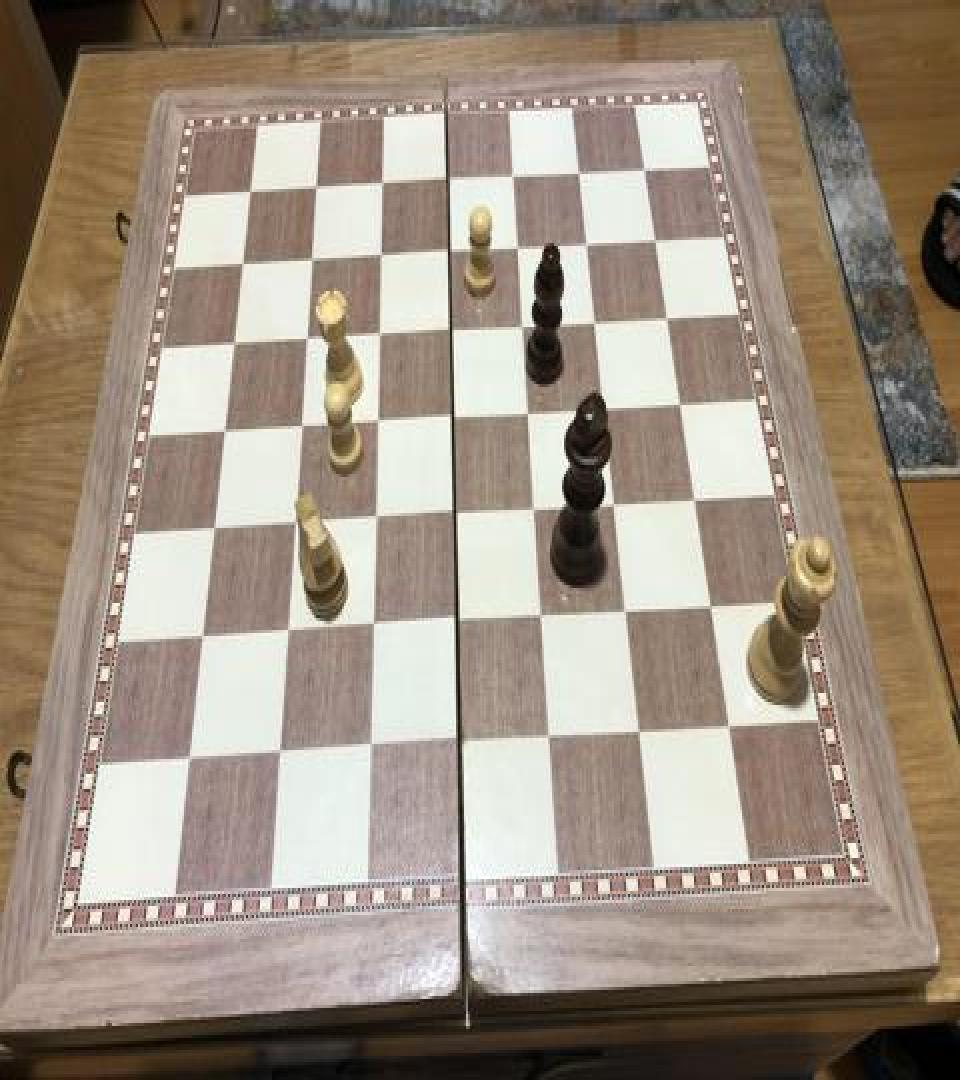xcorner: (203, 514, 227, 551), (700, 595, 724, 632), (192, 622, 216, 659), (628, 718, 652, 755), (269, 739, 293, 776), (635, 160, 659, 196), (569, 164, 593, 200), (504, 166, 528, 202), (438, 170, 462, 206), (306, 176, 330, 212), (240, 178, 264, 214), (645, 231, 669, 267), (577, 234, 601, 270), (508, 237, 532, 273), (439, 242, 463, 278), (370, 244, 394, 280), (301, 248, 325, 284), (232, 250, 256, 286), (657, 309, 681, 345), (585, 312, 609, 348), (513, 316, 537, 352), (441, 320, 465, 356), (369, 322, 393, 358), (296, 327, 320, 363), (223, 330, 247, 366), (670, 394, 694, 430), (594, 399, 618, 435), (519, 402, 543, 438), (443, 406, 467, 442), (367, 410, 391, 446), (290, 414, 314, 450), (214, 418, 238, 454), (684, 489, 708, 525), (604, 494, 628, 530), (525, 498, 549, 534), (445, 502, 469, 538), (364, 507, 388, 543), (284, 512, 308, 548), (615, 600, 639, 636), (531, 604, 555, 640), (447, 609, 471, 645), (362, 614, 386, 650), (277, 618, 301, 654), (717, 714, 741, 750), (539, 724, 563, 760), (449, 729, 473, 765), (359, 735, 383, 771), (178, 744, 202, 780), (372, 173, 396, 208)
